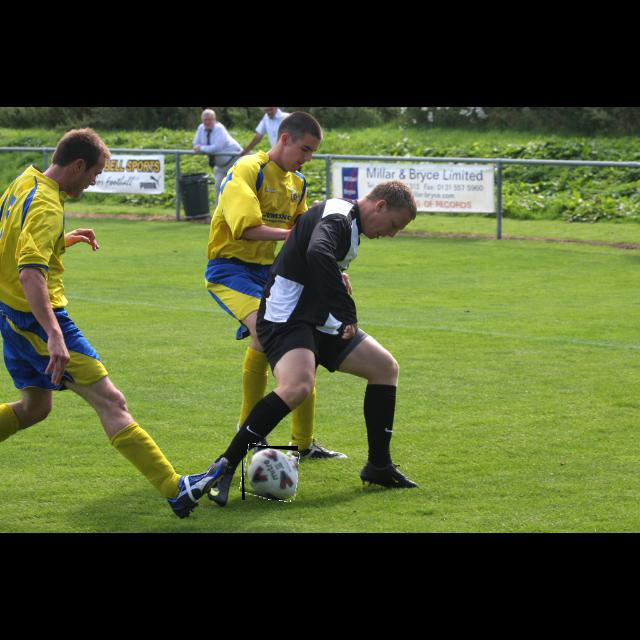Football: (242, 446, 298, 500)
